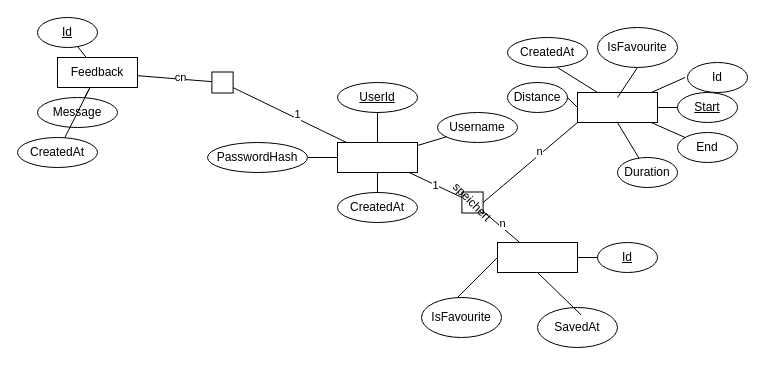
This 765x365 diagram has some shape labels left out. The shapes that lost their labels are listed below. From the top down, each one's box as (x1, y1, x2, y2) in pixels, then its label:
(200, 60, 244, 104): gibt
(576, 92, 658, 122): Route
(336, 142, 418, 172): User
(496, 242, 578, 272): UserRoute
